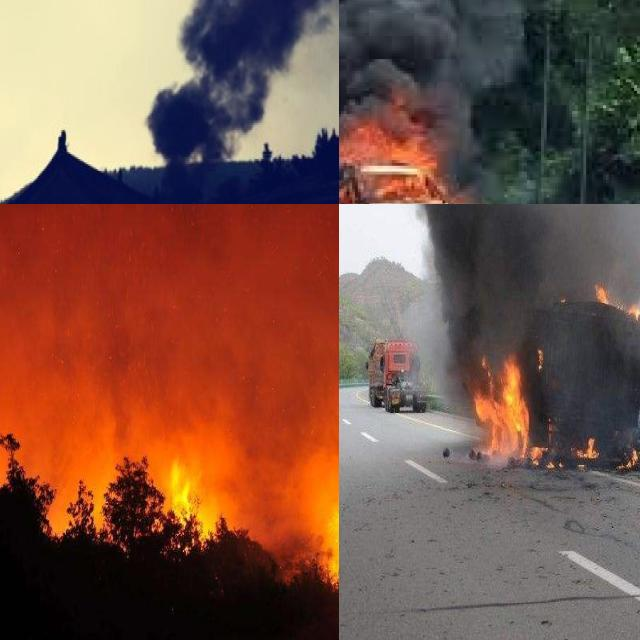fire: (339, 85, 479, 204), (473, 316, 540, 470), (166, 462, 214, 550), (556, 425, 638, 472), (586, 280, 640, 318)
smoke: (0, 204, 339, 551), (339, 0, 640, 186), (339, 204, 640, 373), (144, 0, 339, 164)
